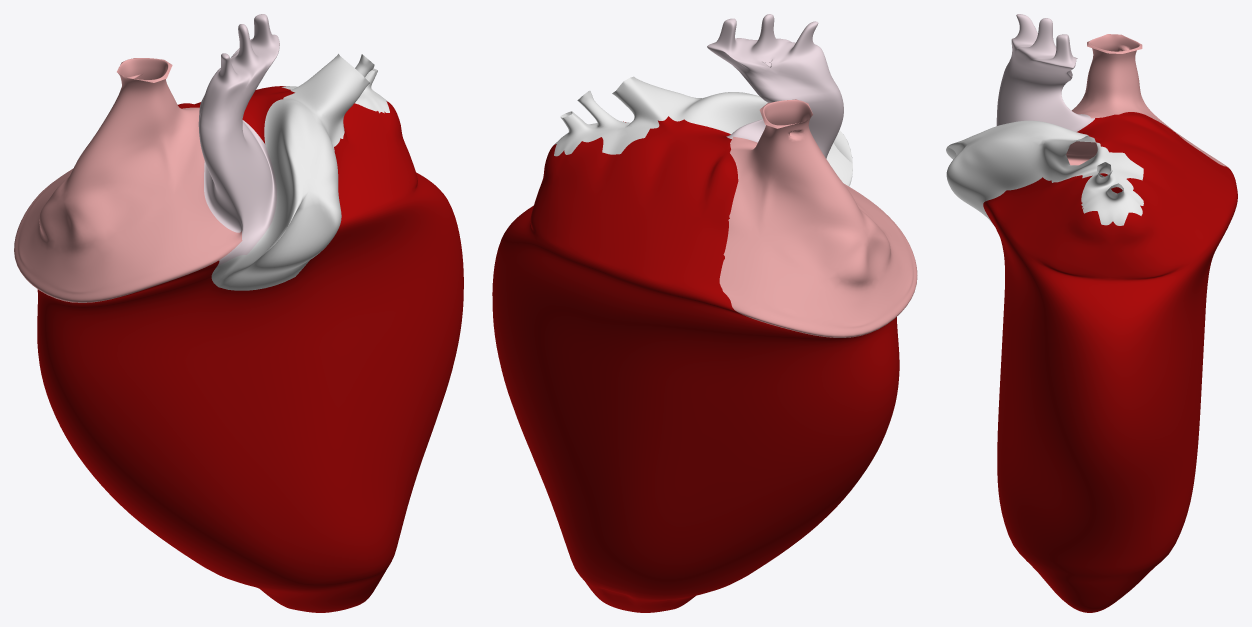
File: heart.fbx
The picture shows the model from 3 angles, left to right: view 1: azimuth 30°, elevation 25°; view 2: azimuth 150°, elevation 25°; view 3: azimuth 270°, elevation 25°; orthographic projection. The views are drawn at different scales.
Visible parts, largest first — view 1: pCube1; view 2: pCube1; view 3: pCube1.
Boxes of the visible parts, x1=… form: pCube1: x1=14, y1=14, x2=463, y2=612; pCube1: x1=492, y1=14, x2=917, y2=612; pCube1: x1=946, y1=14, x2=1237, y2=612.
Bounding box in the file's own units: 8.12 × 11.73 × 5.76.
